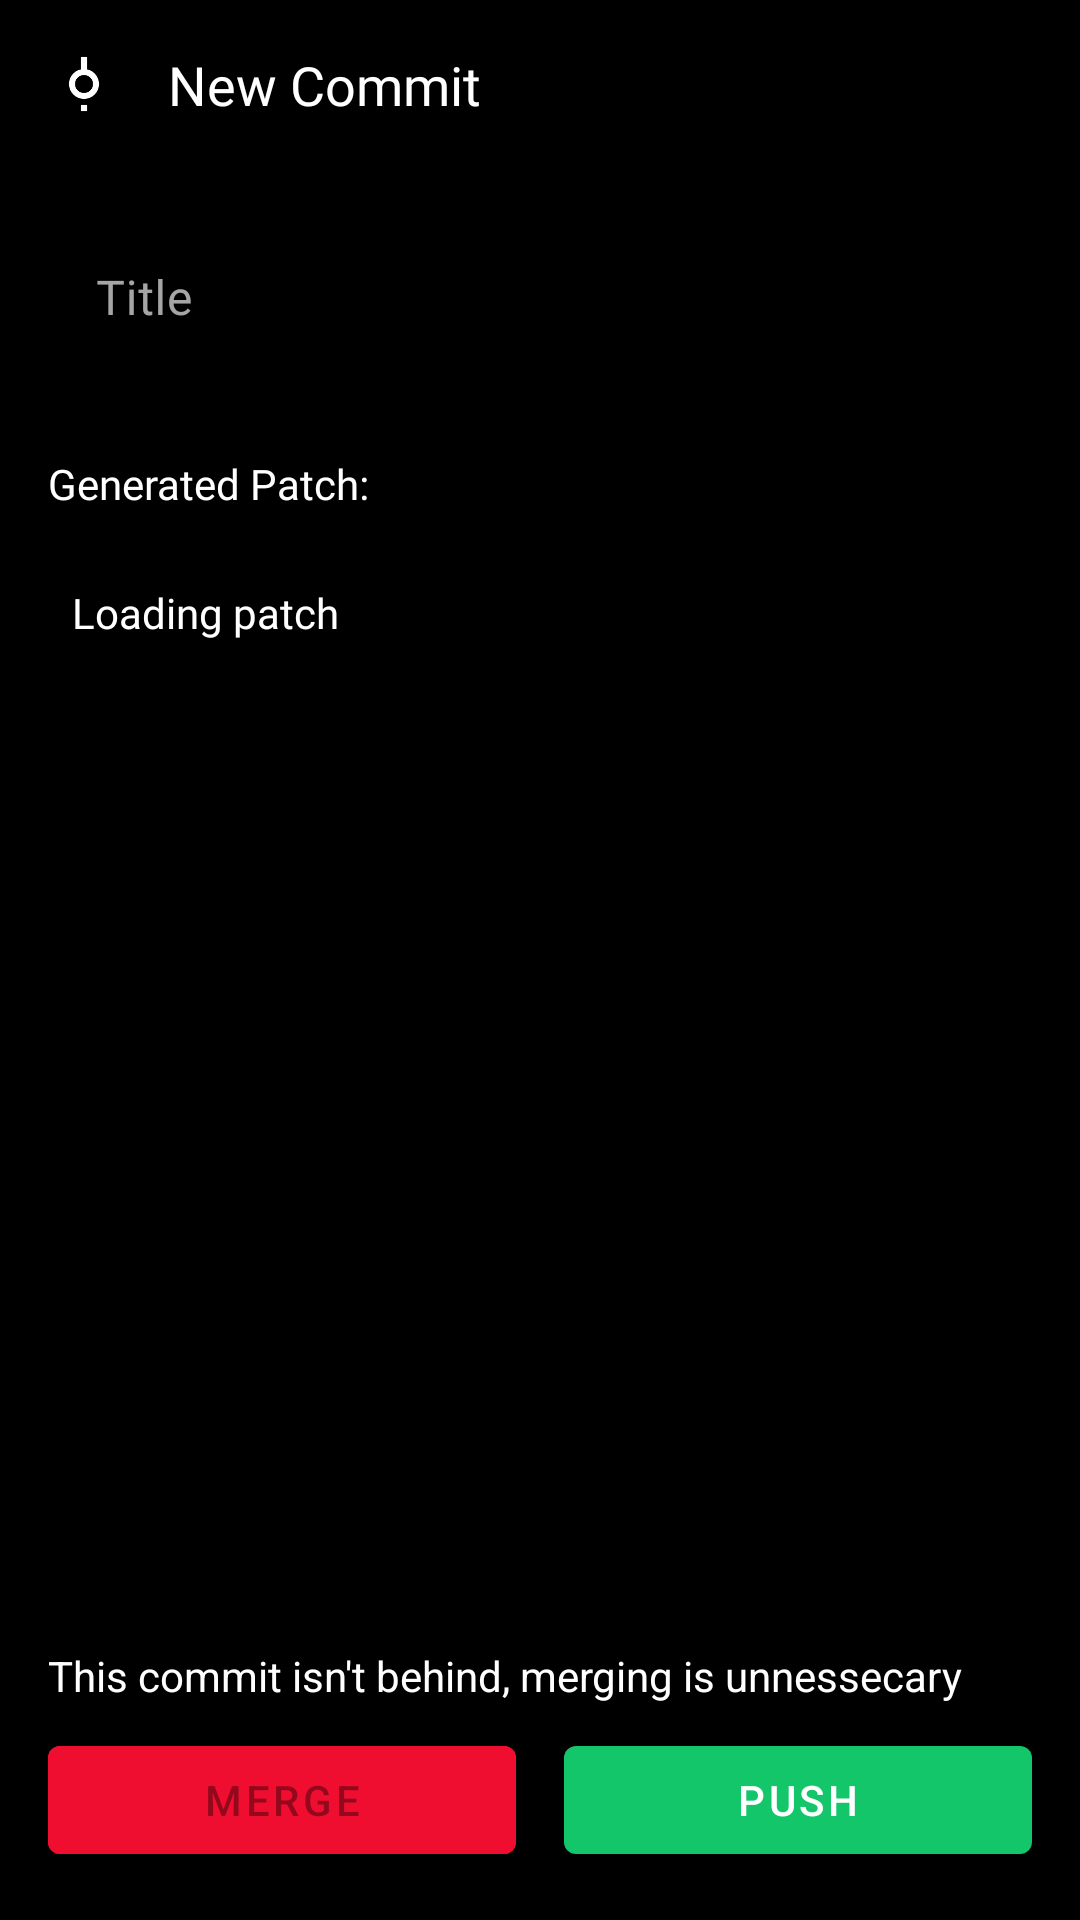

Point at icon controls on the screen. Image size 1080px×1920px, points as point (x, y).
source commit next local: point (84, 84)
